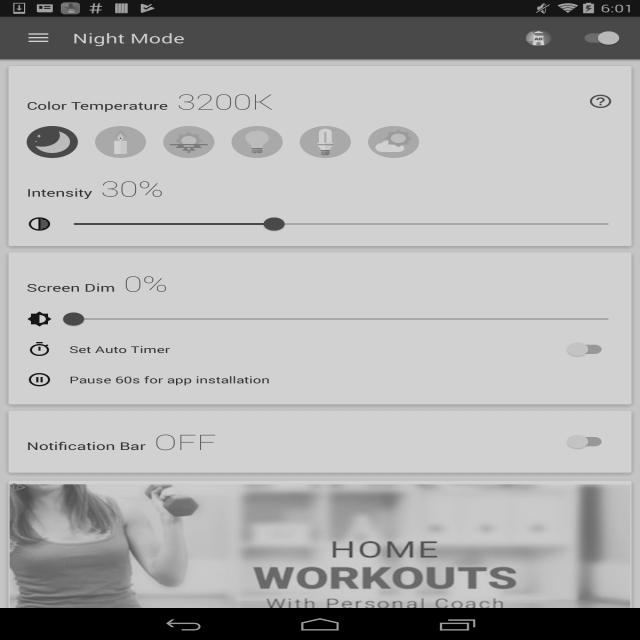ImageButton: (9, 17, 68, 59), (513, 22, 564, 54), (582, 90, 619, 113)
ImageView: (9, 481, 630, 640), (27, 126, 78, 158), (95, 126, 146, 158), (163, 126, 214, 158), (300, 126, 351, 158), (368, 126, 419, 158), (232, 126, 282, 158), (27, 216, 52, 232), (27, 311, 52, 327), (27, 342, 52, 358), (27, 372, 52, 388), (12, 484, 26, 492)
SeekBar: (57, 216, 626, 232), (57, 311, 626, 327)
Switch: (573, 29, 623, 47), (564, 432, 614, 450), (564, 341, 614, 358)
TextView: (70, 343, 564, 356), (27, 82, 168, 112), (177, 87, 274, 116), (69, 373, 270, 386), (72, 29, 184, 47), (26, 437, 146, 453), (101, 174, 164, 203), (154, 427, 217, 456), (27, 279, 115, 295), (124, 269, 168, 298), (27, 185, 92, 200)
